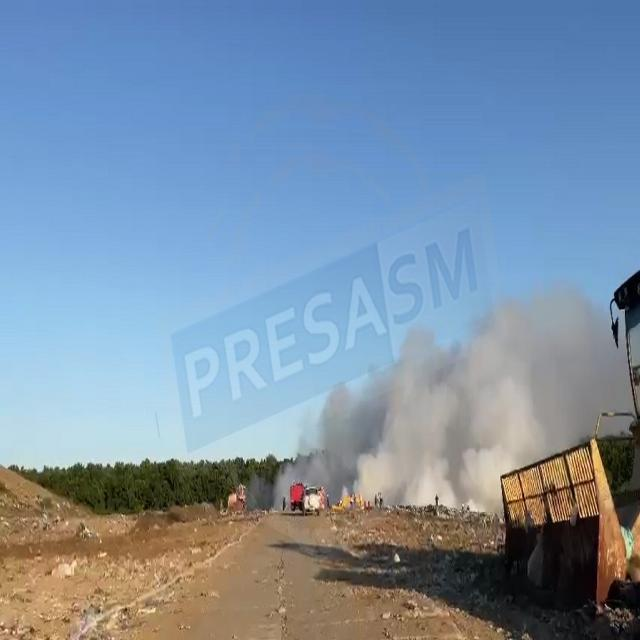Smoke: (276, 267, 640, 504)
